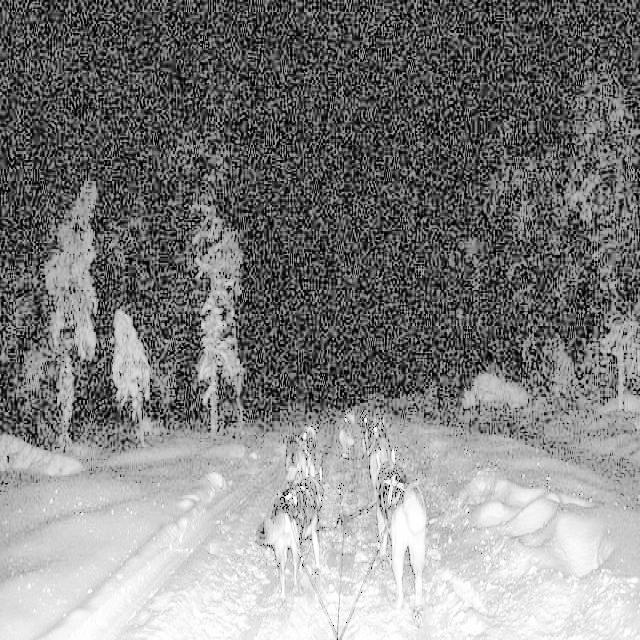Dog: (337, 380, 436, 617), (235, 436, 327, 592)
